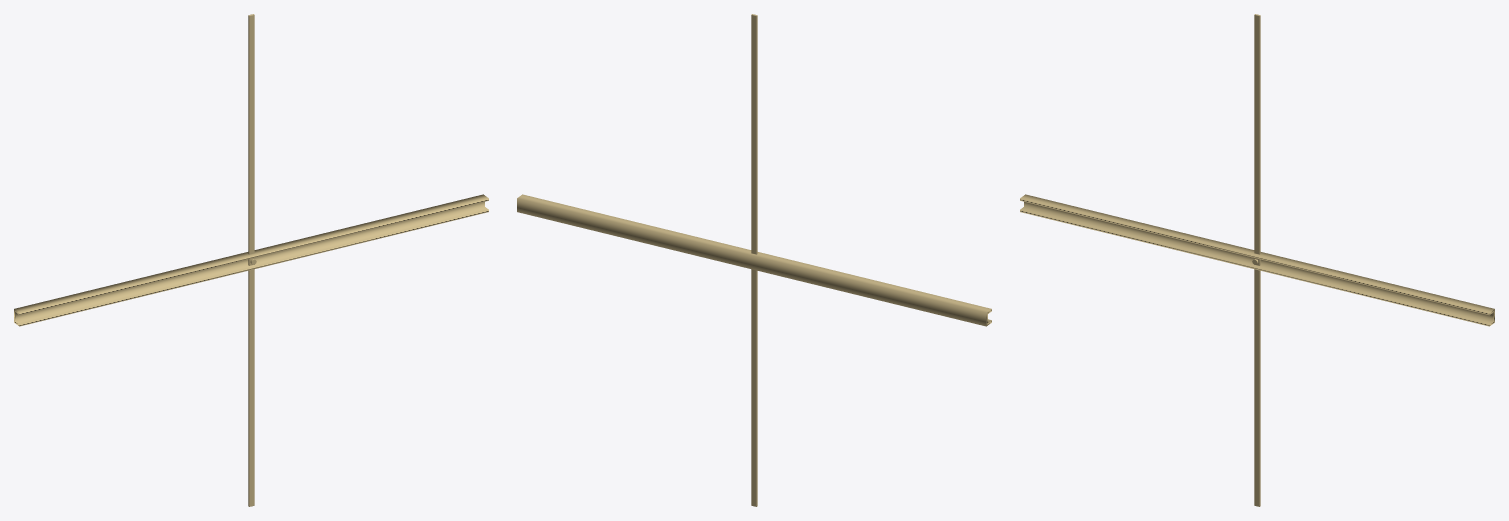
File: lift_gate.glb
3 views of the same model, side by side, from view 1: azimuth 30°, elevation 25°; view 2: azimuth 150°, elevation 25°; view 3: azimuth 330°, elevation 25° (orthographic).
Parts seen in each view (by area): view 1: GateTrack, GateLink; view 2: GateTrack, GateLink; view 3: GateTrack, GateLink.
Part boxes in pixels (left/top/right/bottom): GateTrack: left=14, top=194, right=488, bottom=326; GateLink: left=248, top=14, right=254, bottom=506; GateTrack: left=517, top=194, right=991, bottom=326; GateLink: left=751, top=14, right=757, bottom=506; GateTrack: left=1020, top=194, right=1494, bottom=326; GateLink: left=1254, top=14, right=1260, bottom=506.
Size of the model in its own units: 1 by 1 by 0.02.
